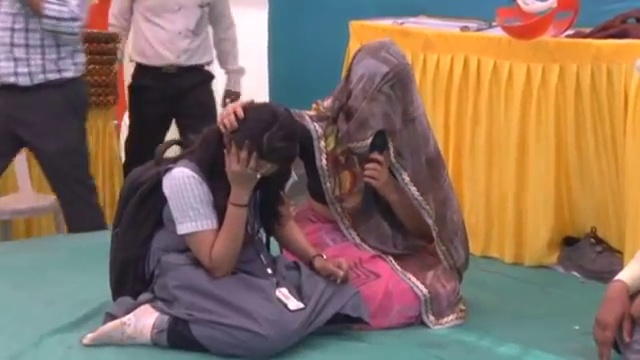helmet_off: (340, 38, 428, 142), (211, 99, 293, 189)
person: (84, 98, 368, 351), (280, 37, 475, 326), (0, 0, 112, 238), (106, 2, 245, 175)
